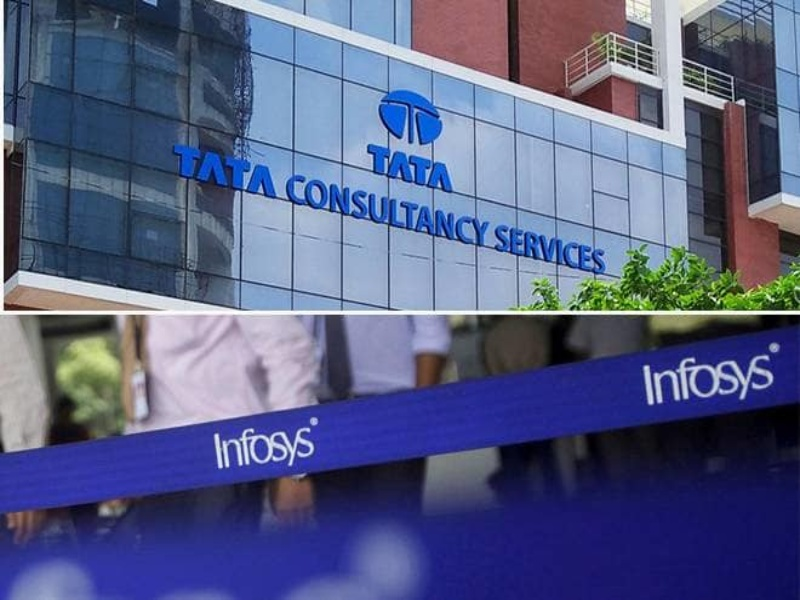tcs: (376, 83, 447, 149)
